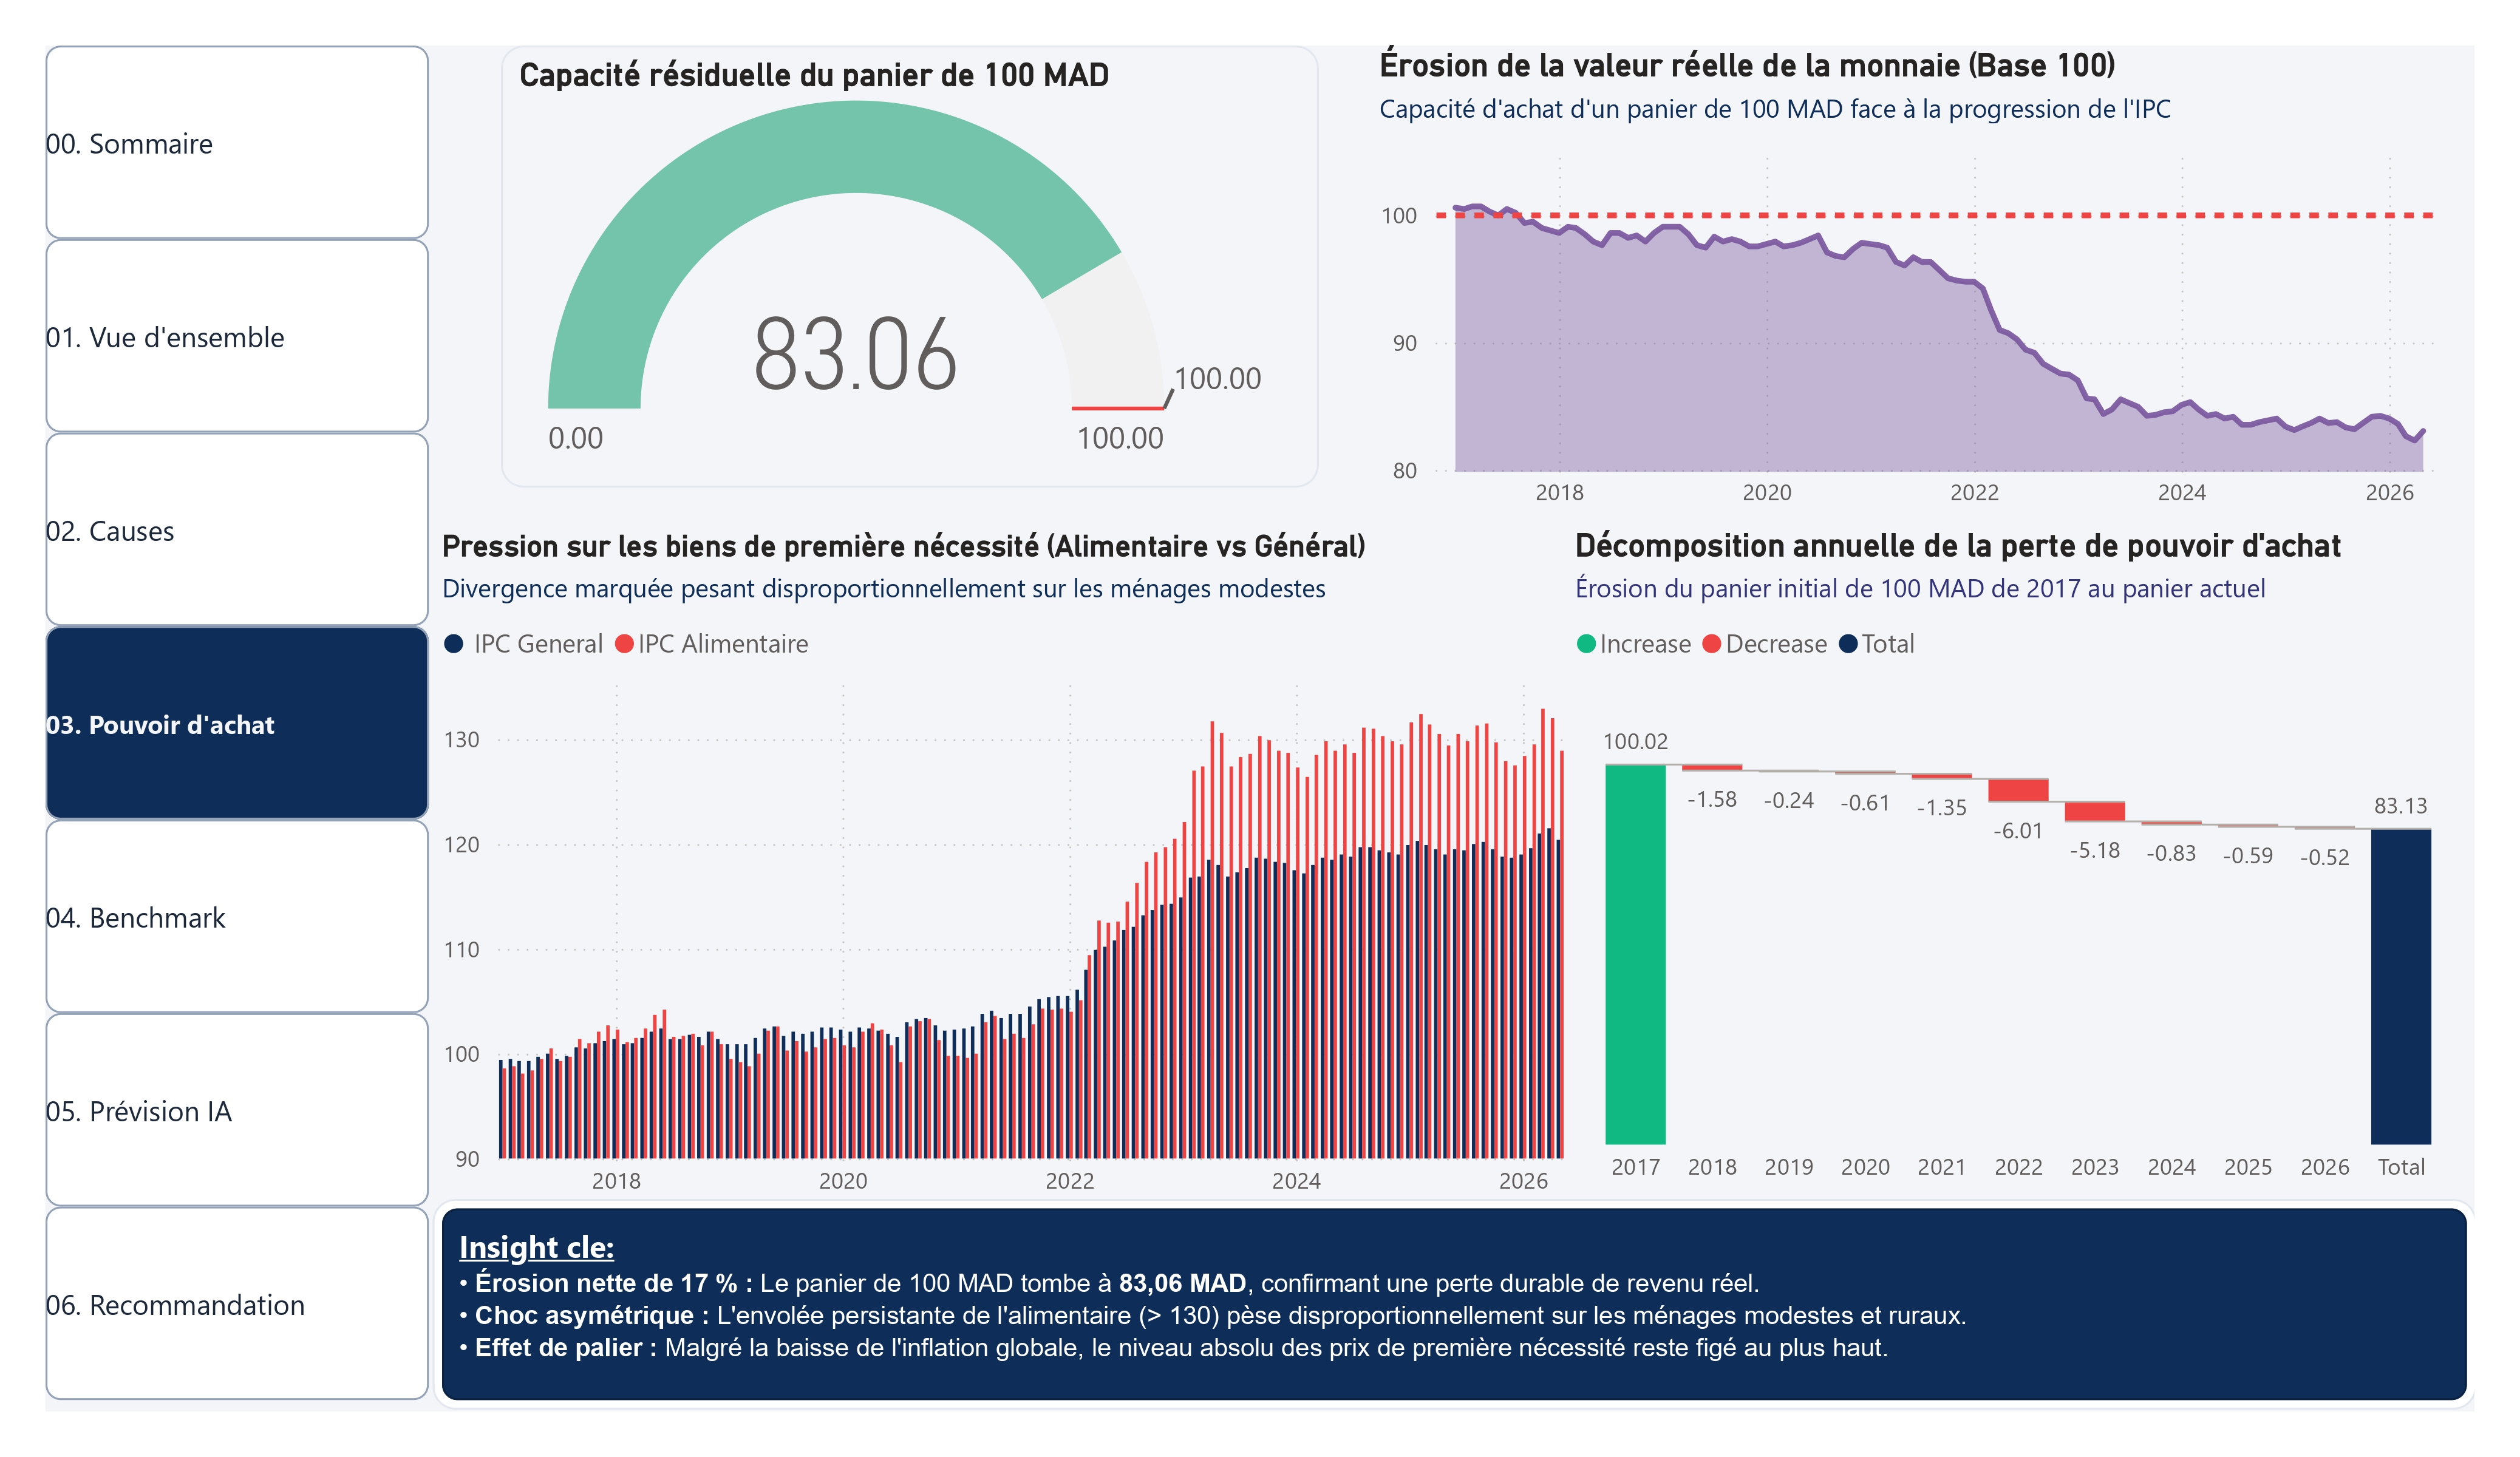

This screenshot's page, from the dashboard's own definition file:
{"tool":"powerbi","page":{"name":" 03. Pouvoir d'achat","canvas":[1280,720],"ordinal":3},"visuals":[{"type":"pageNavigator","box":[0,0,201.9,719.2],"z":0},{"type":"clusteredColumnChart","title":"Pression sur les biens de première nécessité (Alimentaire vs Général)","fields":{"Category":["Calendrier.Date"],"Y":["Sum(Fait_Inflation.IPC_General)","Sum(Fait_Inflation.IPC_Alimentaire)"]},"box":[203.8,253.8,613.5,363.5],"z":1000},{"type":"areaChart","title":"Érosion de la valeur réelle de la monnaie (Base 100)","fields":{"Y":["_Mesures.Indice_Pouvoir_Achat"],"Category":["Calendrier.Date"]},"box":[698.3,0,572.6,254.5],"z":2000},{"type":"gauge","title":"Capacité résiduelle du panier de 100 MAD","fields":{"Y":["_Mesures.Pouvoir_Achat_DernierPoint"]},"box":[240.4,0,430.8,232.7],"z":3000},{"type":"waterfallChart","title":"Décomposition annuelle de la perte de pouvoir d''achat","fields":{"Y":["_Mesures.Flux_Erosion_Annuelle_MAD"],"Category":["Calendrier.Annee"]},"box":[801.3,253.2,478.1,355.3],"z":4000},{"type":"shape","box":[203.8,607.7,1076.9,111.5],"z":5000},{"type":"textbox","box":[213.5,617.3,1057.7,101.9],"z":6001}]}

Visuals, with their boxes in screenshot pixels (x1, y1, x2, y2):
pageNavigator: crop(39, 52, 418, 1399)
"Pression sur les biens de première nécessité (Alimentaire vs Général)" clusteredColumnChart: crop(421, 528, 1570, 1208)
"Érosion de la valeur réelle de la monnaie (Base 100)" areaChart: crop(1347, 52, 2419, 529)
"Capacité résiduelle du panier de 100 MAD" gauge: crop(489, 52, 1296, 488)
"Décomposition annuelle de la perte de pouvoir d''achat" waterfallChart: crop(1540, 526, 2436, 1192)
shape: crop(421, 1190, 2438, 1399)
textbox: crop(439, 1208, 2420, 1399)
